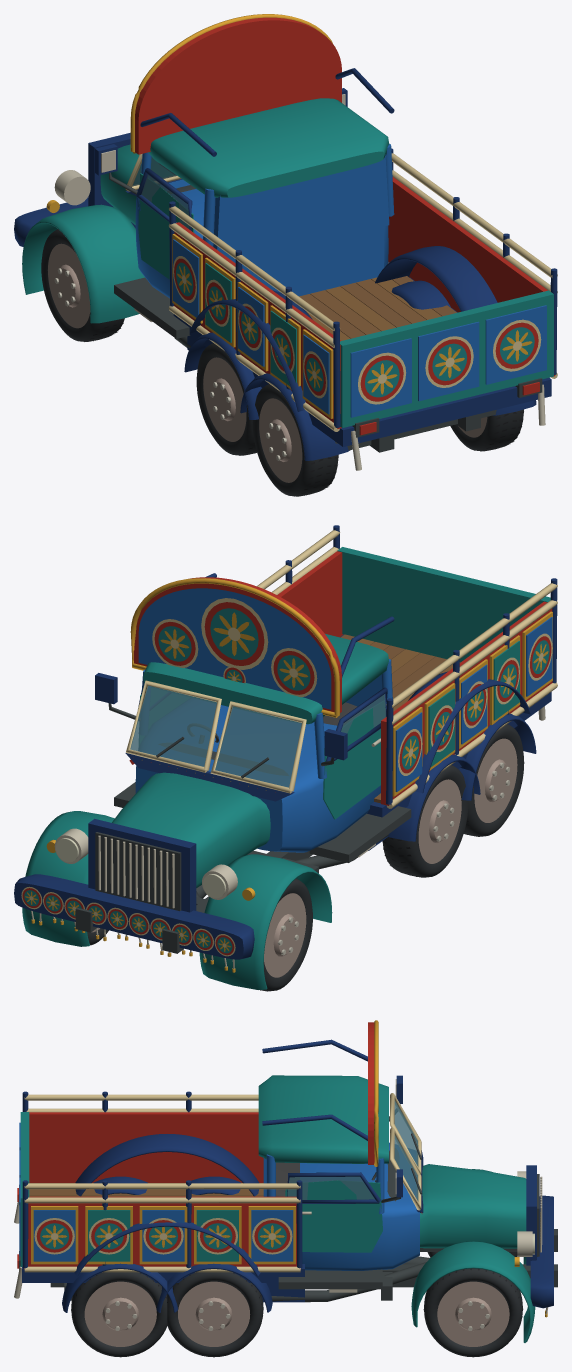
The model's file is kekro.glb.
3 renders of one model, top to bottom at view 1: azimuth 30°, elevation 25°; view 2: azimuth 150°, elevation 25°; view 3: azimuth 270°, elevation 25°, orthographic. The views are drawn at different scales.
Parts seen in each view (by area): view 1: Cab, cargo bed, trim and chassis, Tire, rim and hardware.004, Tire, rim and hardware, Tire, rim and hardware.002, Tire, rim and hardware.005; view 2: Cab, cargo bed, trim and chassis, Tire, rim and hardware.002, Tire, rim and hardware.004, Tire, rim and hardware; view 3: Cab, cargo bed, trim and chassis, Tire, rim and hardware.001, Tire, rim and hardware.005, Tire, rim and hardware.003.
Part boxes in pixels (x1,y1,x2,y2): Cab, cargo bed, trim and chassis: (14, 14, 557, 470); Tire, rim and hardware.004: (252, 384, 338, 496); Tire, rim and hardware: (41, 229, 124, 341); Tire, rim and hardware.002: (196, 343, 256, 455); Tire, rim and hardware.005: (450, 409, 523, 451); Cab, cargo bed, trim and chassis: (14, 525, 557, 989); Tire, rim and hardware.002: (382, 765, 468, 877); Tire, rim and hardware.004: (463, 724, 524, 836); Tire, rim and hardware: (260, 878, 312, 991); Cab, cargo bed, trim and chassis: (14, 1020, 557, 1342); Tire, rim and hardware.001: (423, 1268, 523, 1357); Tire, rim and hardware.005: (71, 1272, 167, 1357); Tire, rim and hardware.003: (167, 1272, 263, 1357).
Bounding box in the file's own units: 2.47 × 3.21 × 5.6.
